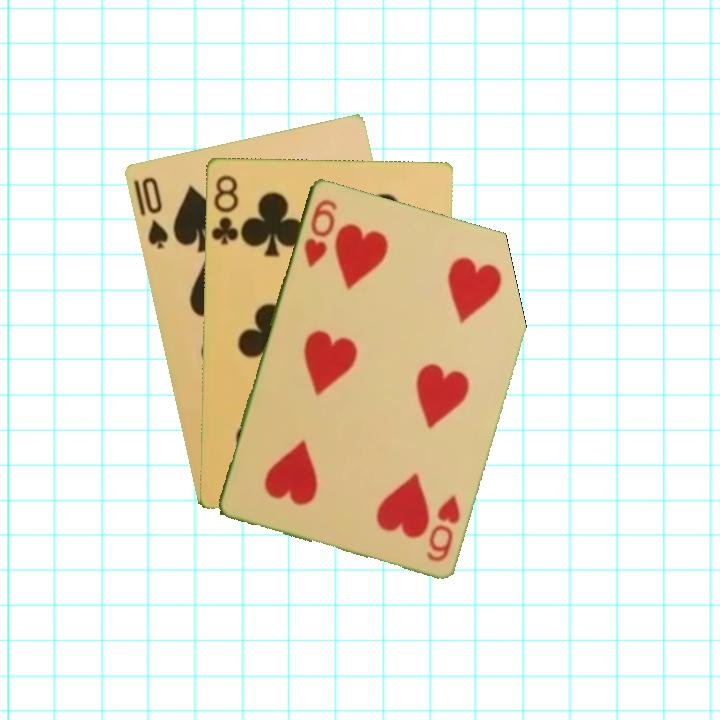10s: (137, 173, 171, 252)
6h: (299, 195, 340, 270), (422, 490, 463, 564)
8c: (207, 171, 241, 247)
